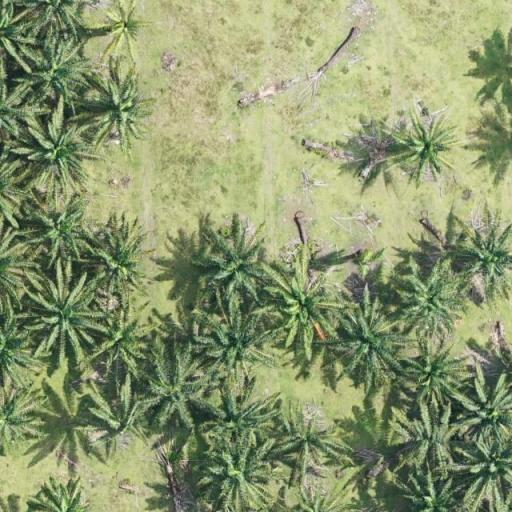Ganoderma: (288, 418, 330, 460), (410, 126, 450, 168), (108, 8, 146, 44)
